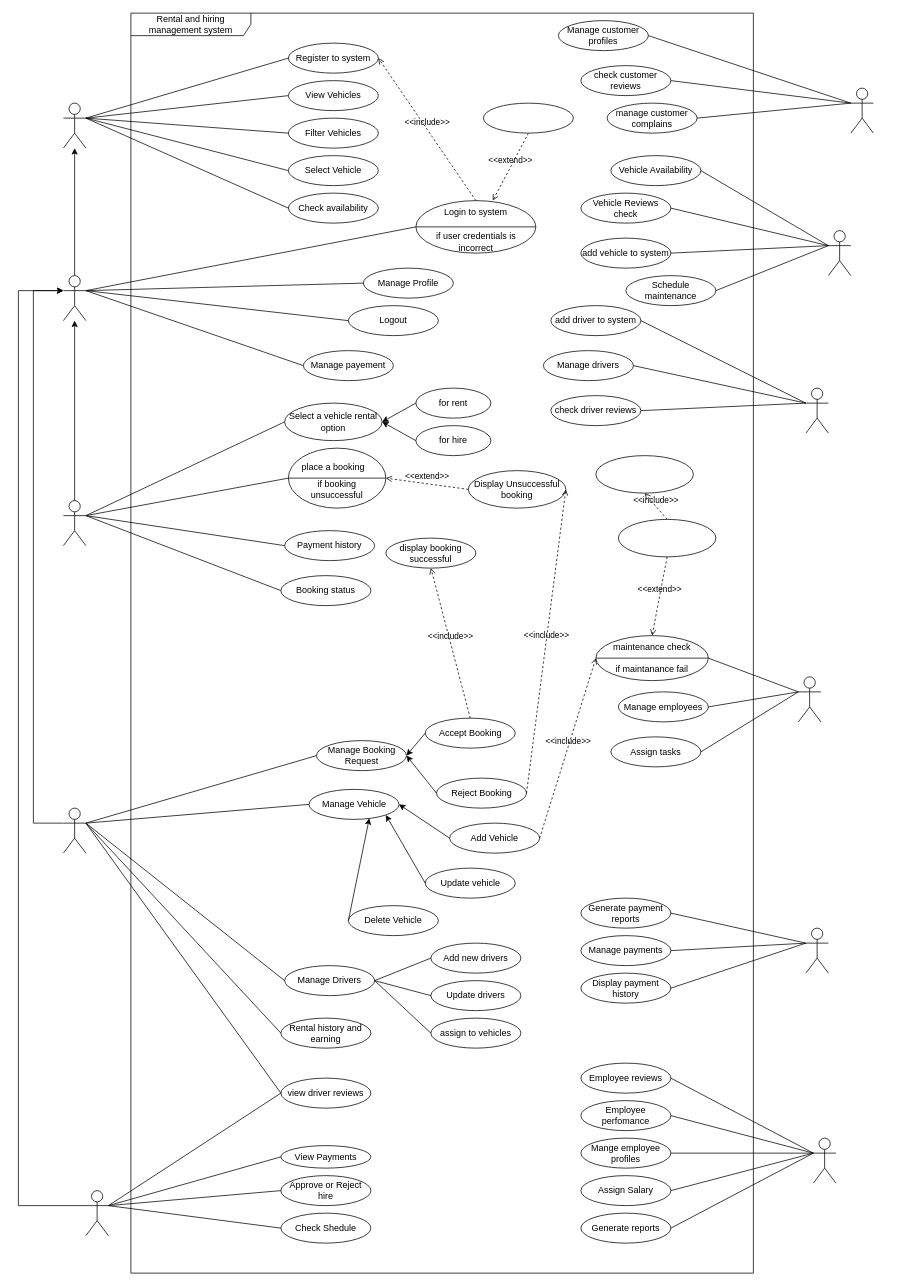
Some shapes in this 915 by 1286 pixel diagram are drawn without their labels. The shapes that lost their labels are listed below. From the top down, each one's box as (x1, y1, x2, y2) in pixels, then its label:
(63, 102, 86, 148): Unregisterd User
(483, 102, 573, 133): Display error
(850, 87, 873, 133): Customer managert
(828, 230, 851, 276): Vehicle Manager
(63, 275, 86, 321): Registerd User
(805, 387, 828, 433): Driver Manager
(595, 455, 693, 493): display fail to confirm vehicle
(63, 500, 86, 546): Renter
(618, 519, 716, 557): notify owner with next procedere
(798, 676, 821, 722): Maintanance Management system
(63, 807, 86, 853): Owner
(805, 927, 828, 973): Payment Management System
(813, 1137, 836, 1183): Hr Manager
(85, 1190, 108, 1236): Driver
